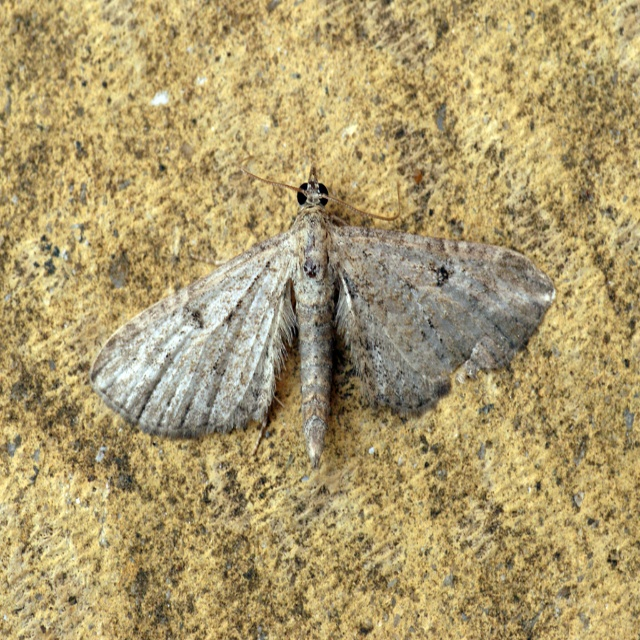Butterfly: (92, 140, 545, 481)
